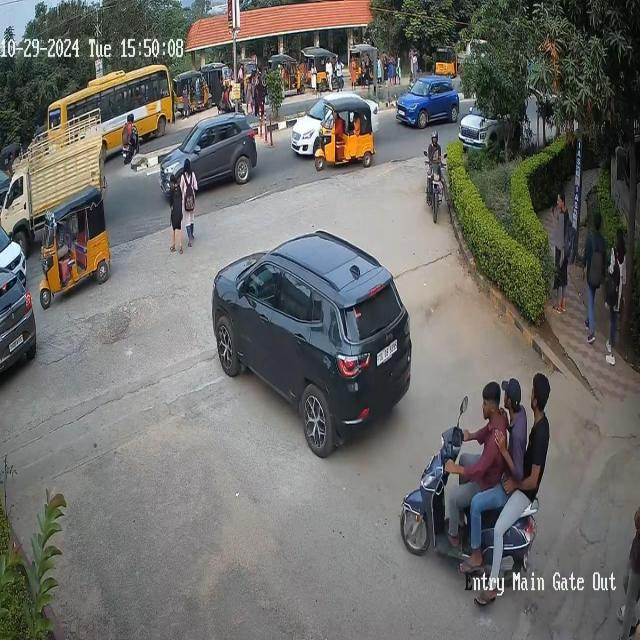triple_rider: (400, 366, 552, 591)
